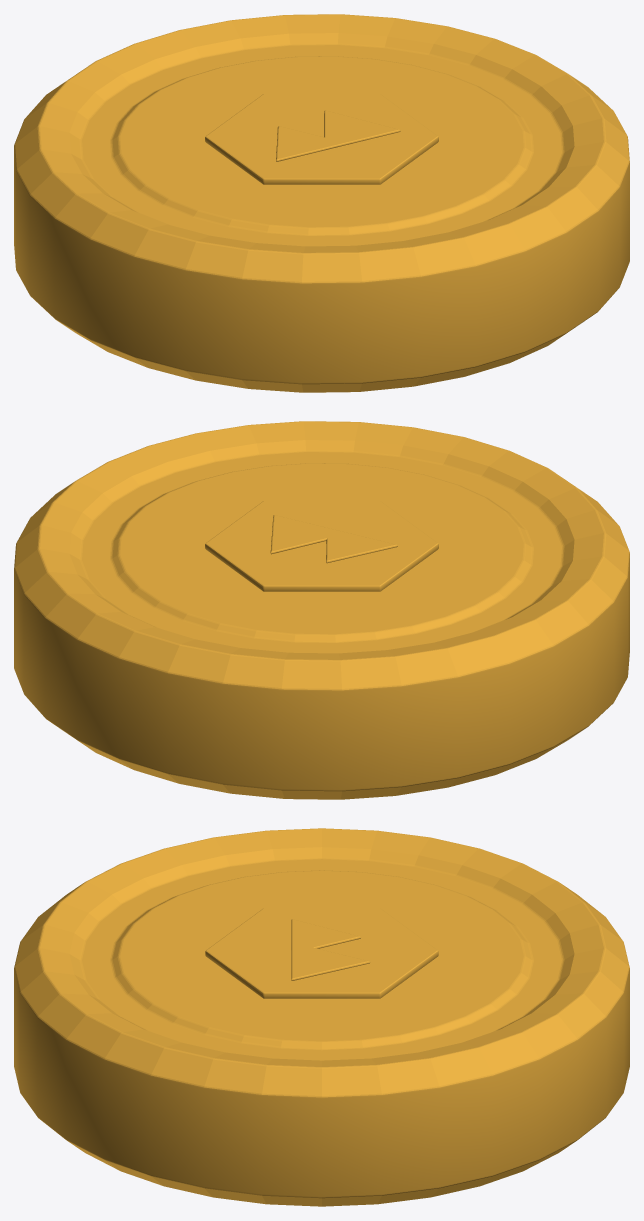
File: SM_GoldCoin.fbx
3 renders of one model, top to bottom at view 1: azimuth 30°, elevation 25°; view 2: azimuth 150°, elevation 25°; view 3: azimuth 270°, elevation 25°, orthographic.
Parts seen in each view (by area): view 1: SM_GoldCoin; view 2: SM_GoldCoin; view 3: SM_GoldCoin.
Part boxes in pixels (x1,y1,x2,y2): SM_GoldCoin: (14,14,629,392); SM_GoldCoin: (14,421,629,799); SM_GoldCoin: (14,828,629,1206).
Bounding box in the file's own units: 10 × 10 × 2.49.
